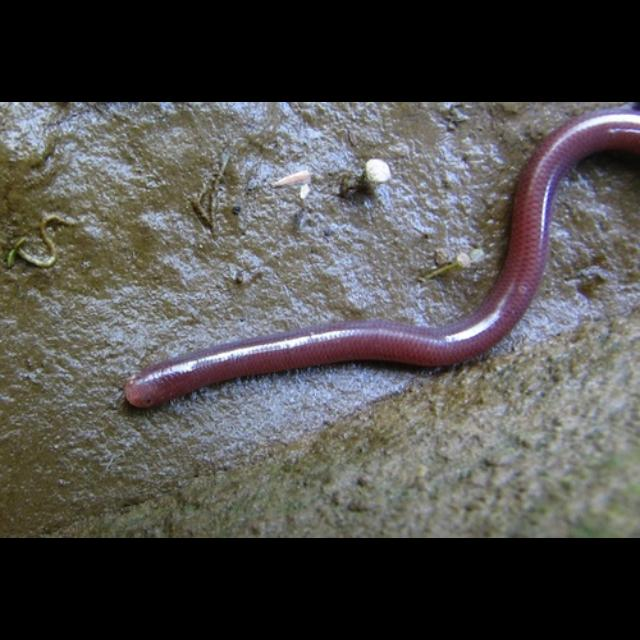snake: (120, 105, 640, 417)
